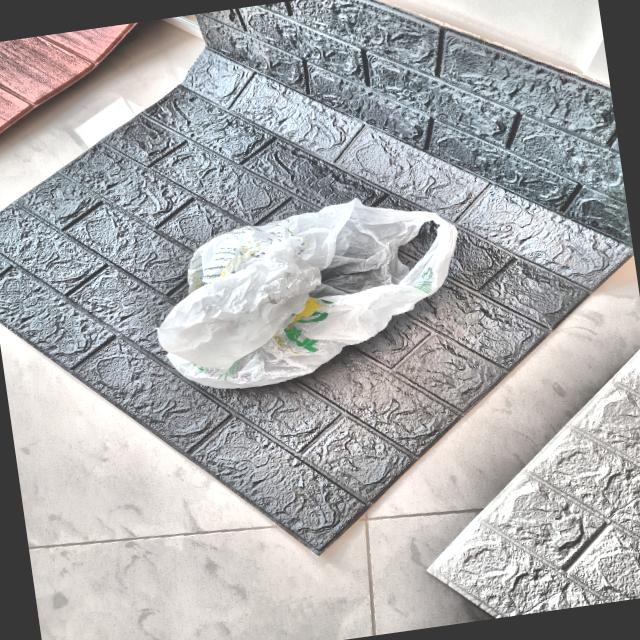plastic bag: (132, 166, 508, 412)
